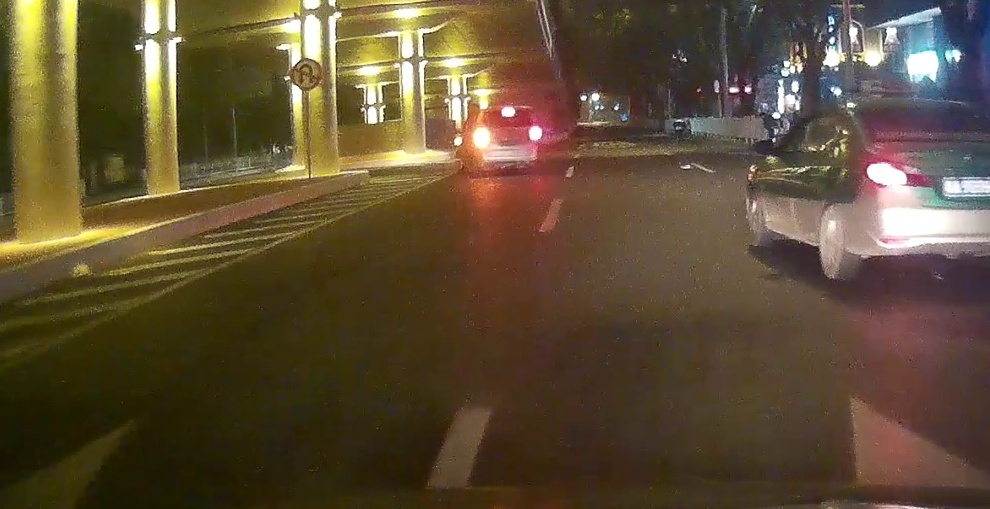L_light: (475, 129, 489, 147)
R_light: (529, 126, 538, 143)
T_light: (501, 107, 515, 117)
night-left: (473, 103, 538, 175)
